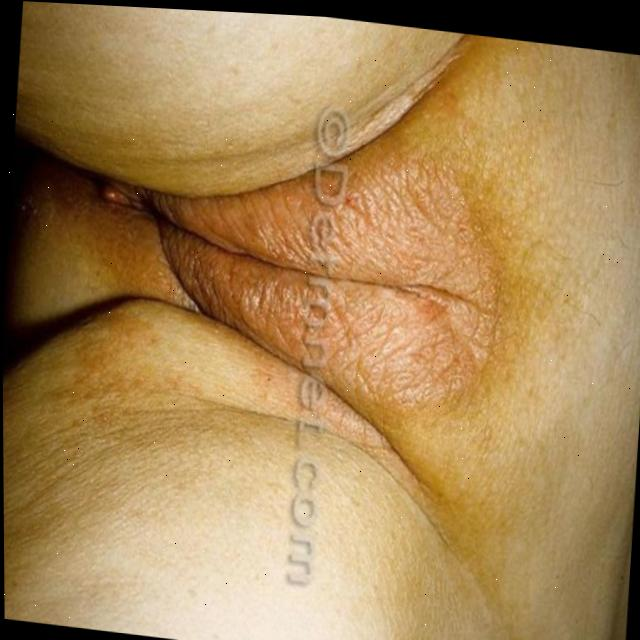Eczema: (218, 157, 488, 363)
